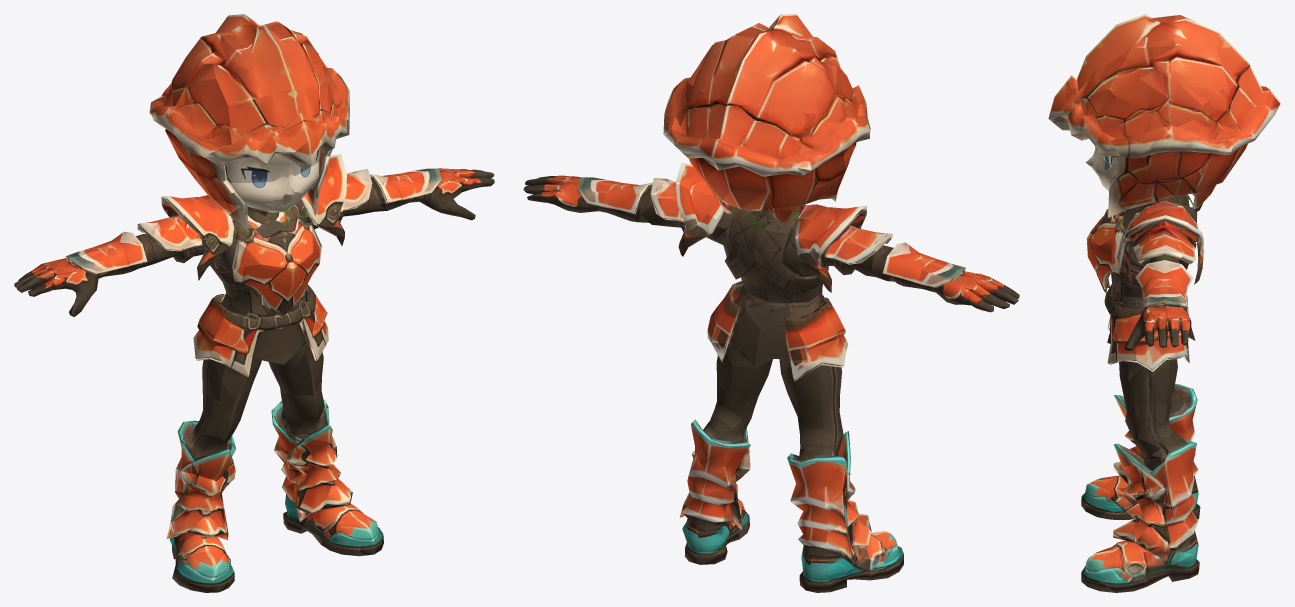
File: crabshell_meshy.glb
3 views of the same model, side by side, from view 1: azimuth 30°, elevation 25°; view 2: azimuth 150°, elevation 25°; view 3: azimuth 270°, elevation 25° (orthographic). The views are drawn at different scales.
Size of the model in its own units: 1.89 by 2 by 0.7949.
Materials: 1 (1 with a texture image).
